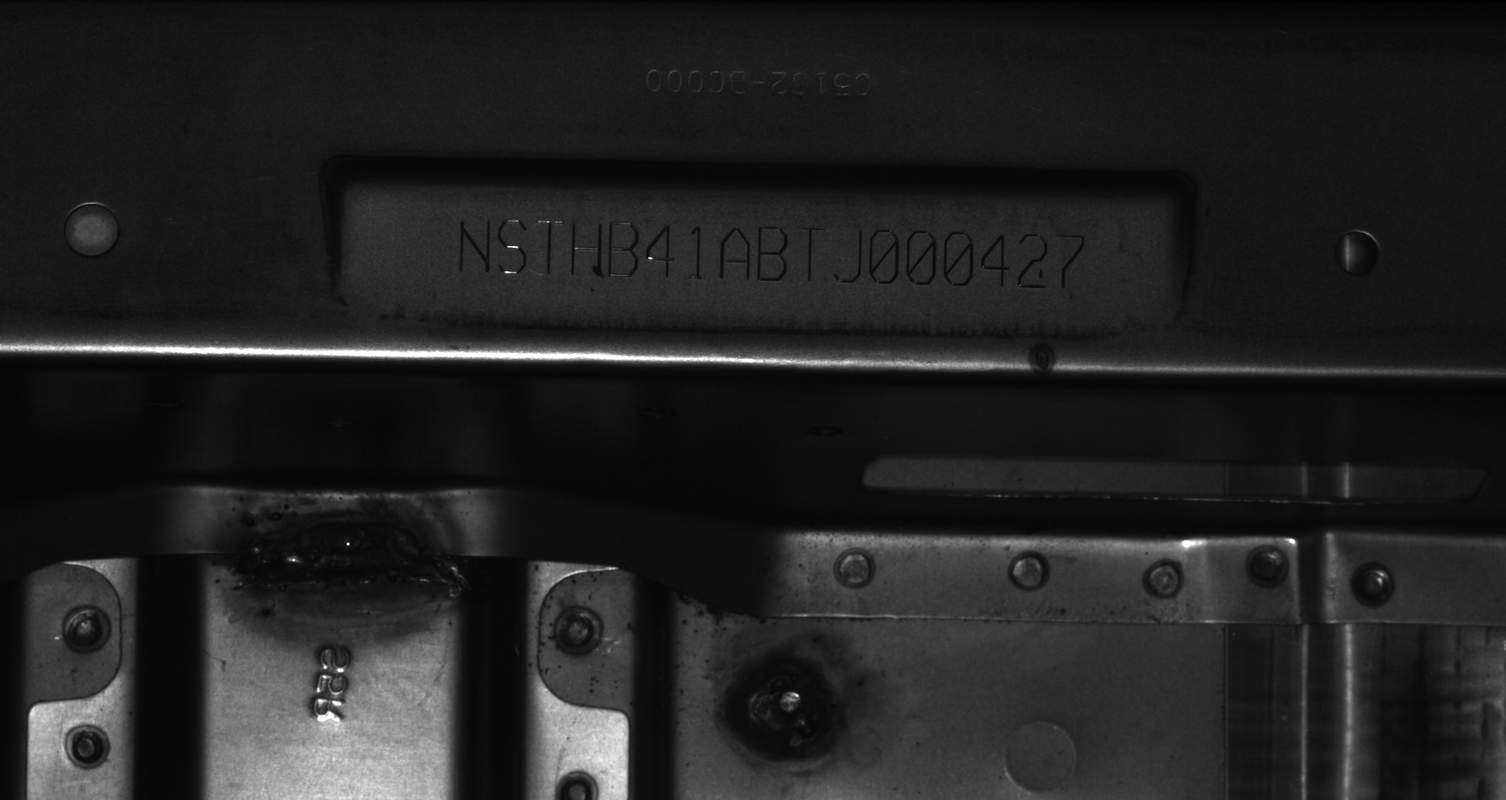bl7m_vin_plate: (346, 184, 1177, 338)
